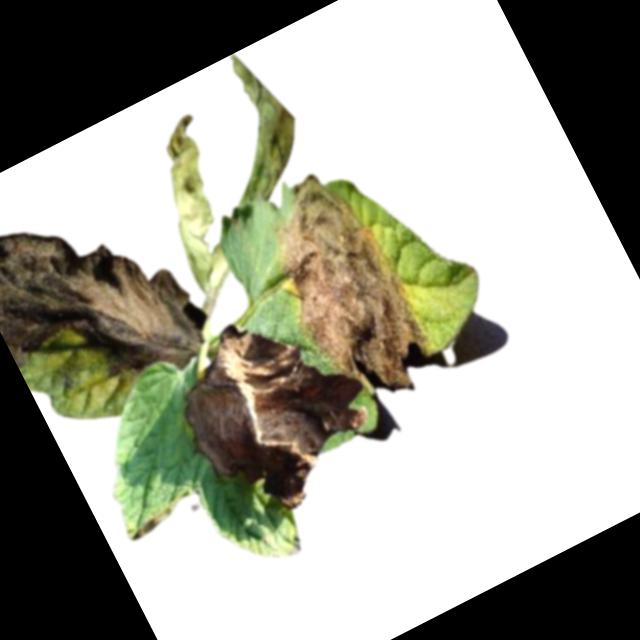Late_blight: (1, 132, 217, 433), (149, 285, 391, 539), (238, 159, 445, 421), (125, 114, 261, 290), (190, 42, 318, 198)
